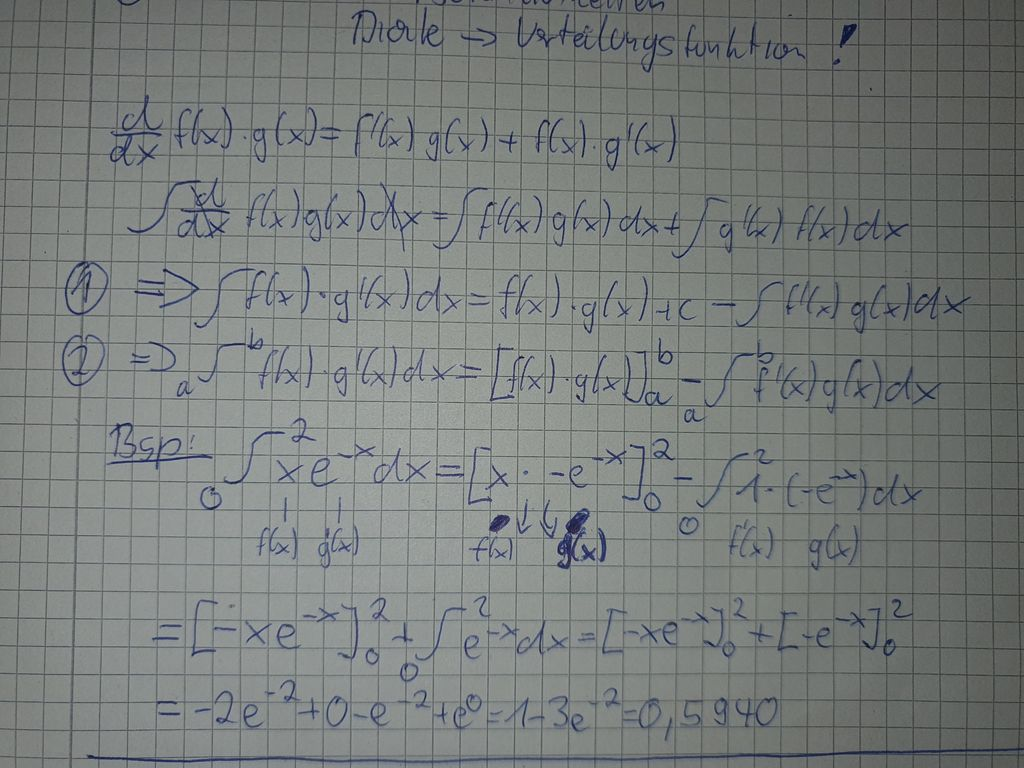equals: (148, 611, 190, 648), (315, 112, 349, 151), (146, 693, 190, 723), (424, 192, 453, 236), (433, 456, 470, 485), (453, 359, 484, 387), (464, 284, 492, 313), (573, 619, 600, 648), (481, 705, 508, 728), (617, 705, 641, 728)
equation: (169, 420, 933, 529), (148, 586, 915, 669), (166, 336, 943, 414), (200, 258, 985, 330), (108, 172, 909, 237), (97, 88, 685, 169), (143, 676, 792, 745)
seperator: (387, 617, 421, 653), (742, 619, 782, 647), (497, 123, 524, 157), (299, 691, 328, 722), (677, 364, 711, 389), (658, 207, 686, 237), (670, 465, 700, 492), (711, 289, 736, 316), (426, 702, 454, 726), (526, 707, 553, 731), (657, 294, 677, 322)
term: (675, 438, 927, 540), (193, 417, 432, 511), (686, 337, 953, 417), (176, 339, 453, 405), (467, 428, 673, 516), (128, 179, 418, 237), (674, 184, 908, 252), (102, 94, 323, 164), (191, 268, 459, 324), (734, 273, 980, 330), (488, 336, 681, 408), (403, 596, 570, 679), (442, 188, 661, 250), (189, 598, 385, 667), (526, 103, 681, 168), (597, 591, 745, 659), (499, 265, 652, 328), (776, 591, 908, 657), (355, 100, 492, 162), (640, 685, 785, 740), (323, 680, 433, 735), (191, 679, 294, 737), (544, 687, 617, 739), (449, 688, 483, 734), (507, 688, 533, 732), (678, 288, 704, 328)
